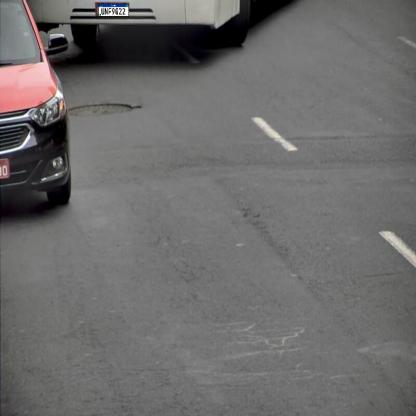PlacaM: (98, 4, 129, 16)
